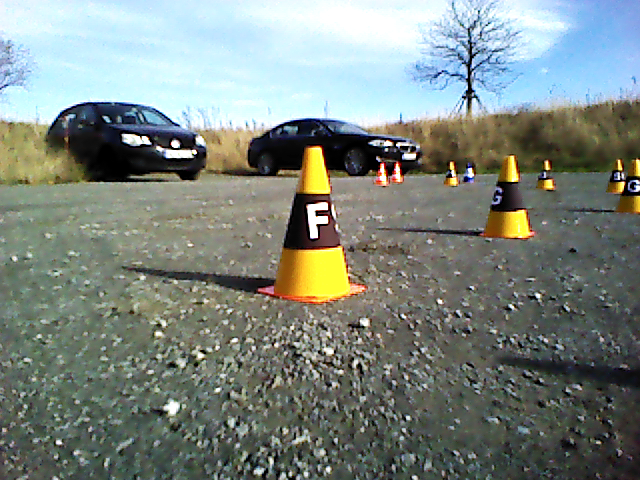yellowcone: (273, 148, 351, 296), (486, 155, 530, 238), (619, 159, 640, 210), (537, 159, 553, 189), (610, 159, 624, 192)
